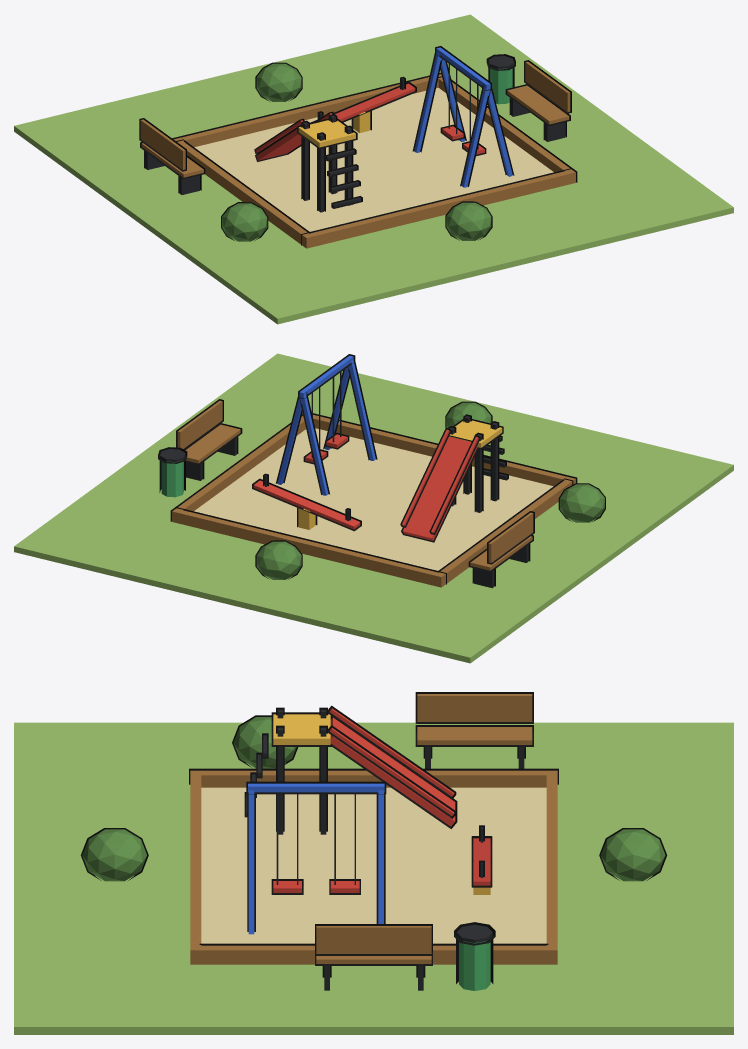
File: Park_cim_oyun.fbx
3 renders of one model, top to bottom at view 1: azimuth 30°, elevation 25°; view 2: azimuth 150°, elevation 25°; view 3: azimuth 270°, elevation 25°, orthographic. The views are drawn at different scales.
Parts seen in each view (by area): view 1: Park_cim_oyun; view 2: Park_cim_oyun; view 3: Park_cim_oyun.
Boxes of the visible parts, x1,y1,x2,y2 form: Park_cim_oyun: (14, 14, 733, 324); Park_cim_oyun: (14, 353, 733, 663); Park_cim_oyun: (14, 692, 733, 1034).
Size of the model in its own units: 10 by 2.22 by 10.
